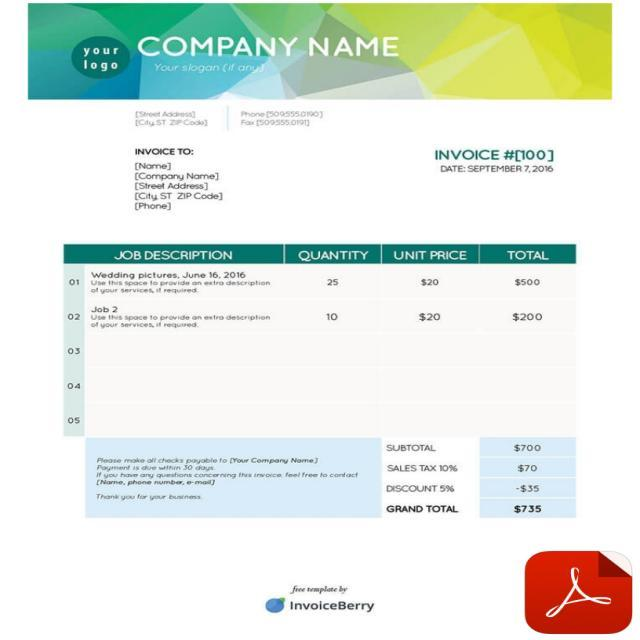customer_address: (120, 106, 216, 134), (131, 180, 250, 201)
customer_name: (133, 159, 222, 182)
invoice_date: (467, 165, 556, 176)
invoice_number: (502, 149, 557, 162)
invoice_subtotal: (500, 441, 553, 454)
invoice_total: (491, 502, 560, 520)
item_description: (86, 266, 278, 332)
item_quantity: (311, 273, 349, 325)
item_total_price: (500, 274, 546, 327)
item_unit_price: (405, 272, 450, 326)
supplier_name: (130, 33, 408, 59)
tax_amount: (510, 463, 550, 474)
